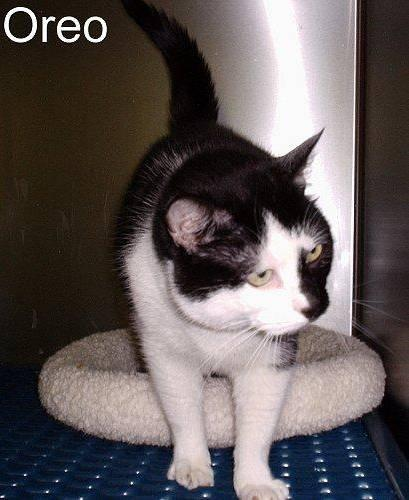cat: (115, 0, 332, 499)
